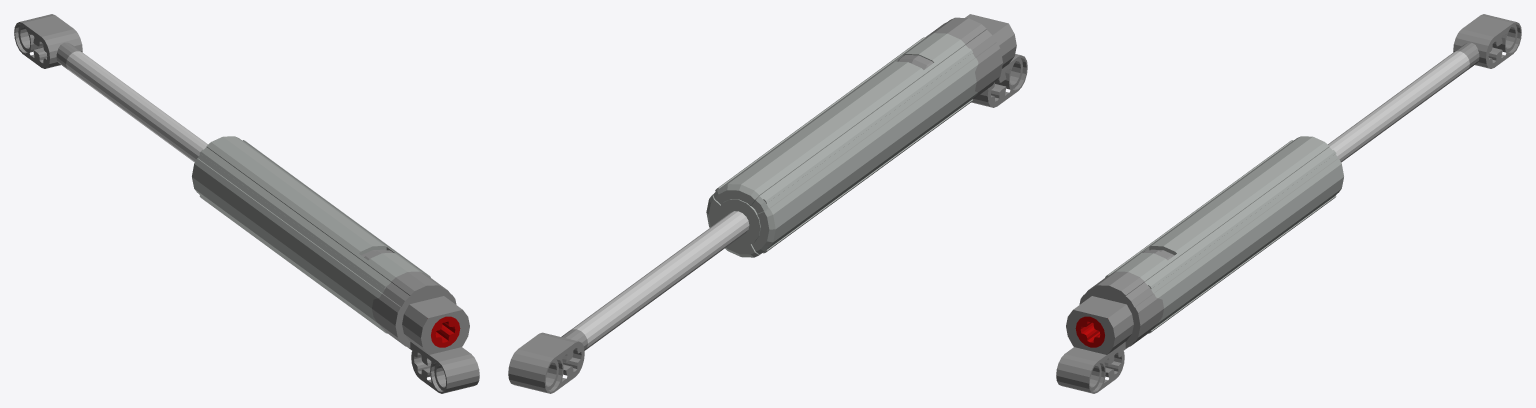
3 views of the same model, side by side, from view 1: azimuth 30°, elevation 25°; view 2: azimuth 150°, elevation 25°; view 3: azimuth 330°, elevation 25° (orthographic). The views are drawn at different scales.
Visible parts, largest first — view 1: world; view 2: world; view 3: world.
Part boxes in pixels (x1,y1,x2,y2): world: (14,14,479,393); world: (508,14,1027,393); world: (1056,14,1521,393).
Size of the model in its own units: 0.0152 by 0.0192 by 0.1832.
